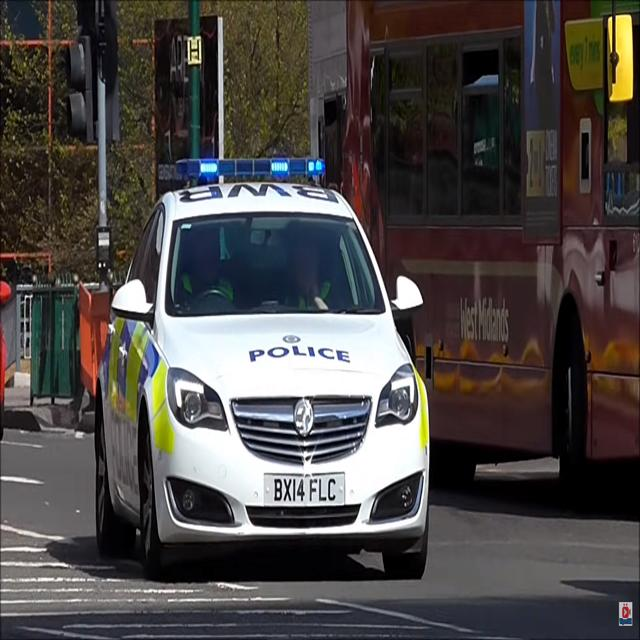emergency-vehicles: (74, 148, 451, 587)
